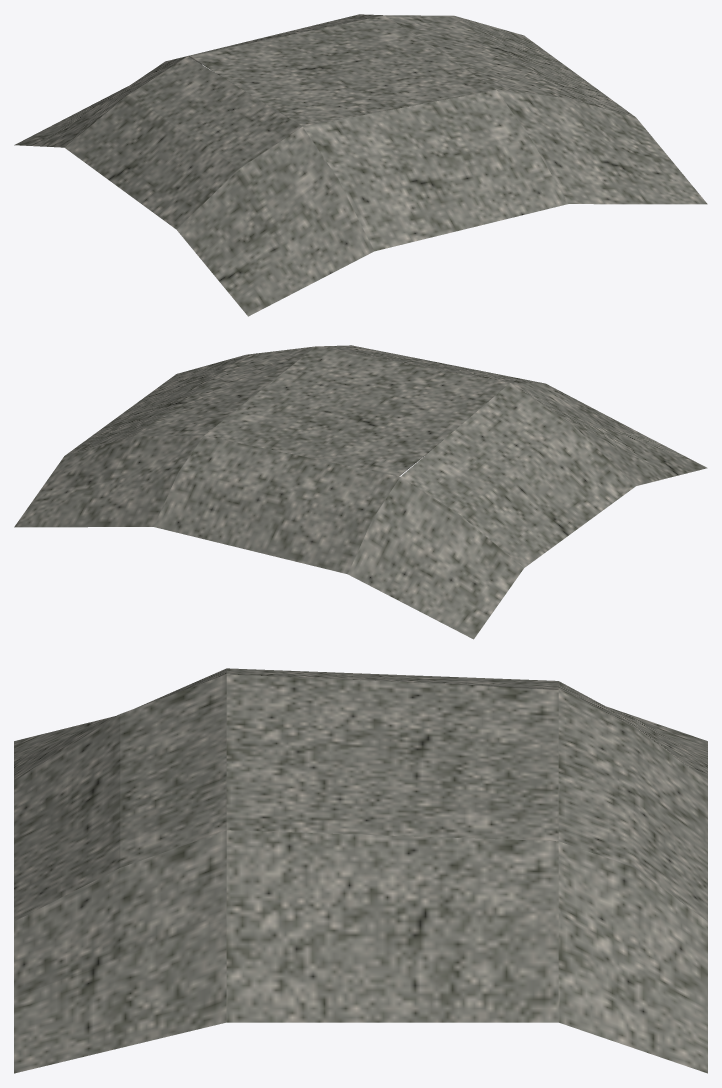
The model's file is SM_EC_Rock_Plane_Raised_01.fbx.
3 views of the same model, one above another, from view 1: azimuth 30°, elevation 25°; view 2: azimuth 150°, elevation 25°; view 3: azimuth 270°, elevation 25° (orthographic). The views are drawn at different scales.
Visible parts, largest first — view 1: SM_EC_Rock_Plane_Raised_01; view 2: SM_EC_Rock_Plane_Raised_01; view 3: SM_EC_Rock_Plane_Raised_01.
Part boxes in pixels (x1,y1,x2,y2): SM_EC_Rock_Plane_Raised_01: (14, 14, 707, 316); SM_EC_Rock_Plane_Raised_01: (14, 345, 707, 639); SM_EC_Rock_Plane_Raised_01: (14, 668, 707, 1073).
Size of the model in its own units: 2.37 by 2.09 by 0.5255.
